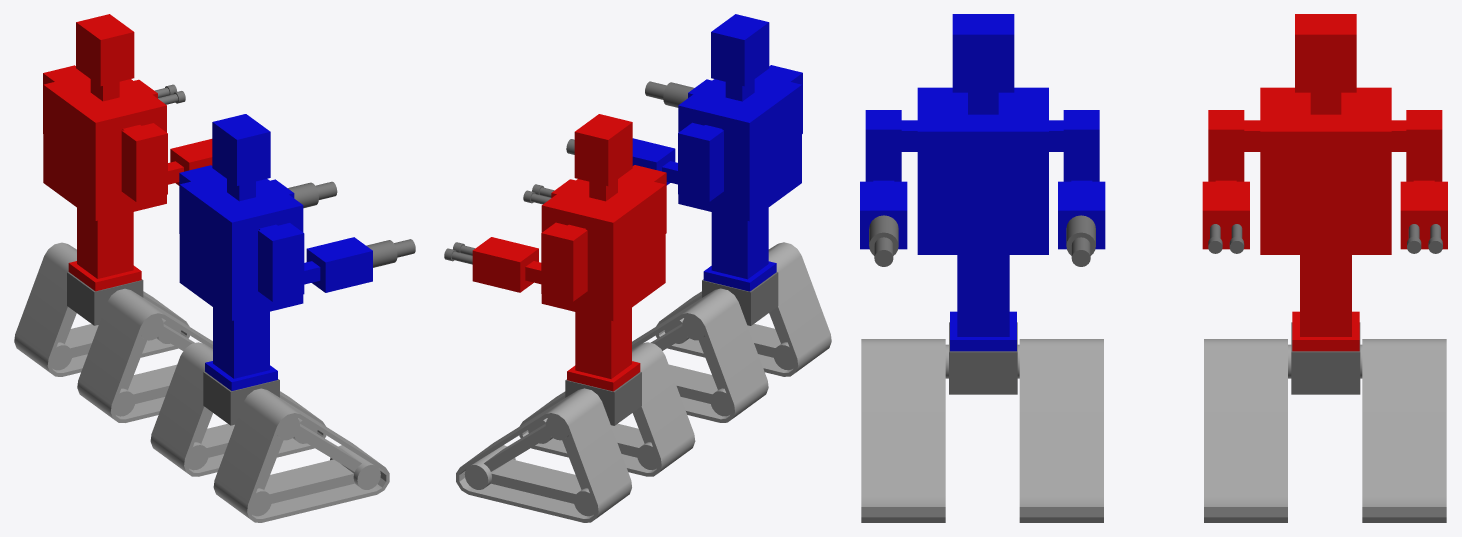
The model's file is BOTS.fbx.
3 renders of one model, left to right at view 1: azimuth 30°, elevation 25°; view 2: azimuth 150°, elevation 25°; view 3: azimuth 270°, elevation 25°, orthographic. The views are drawn at different scales.
Visible parts, largest first — view 1: polySurface77, polySurface108, polySurface109, polySurface43; view 2: polySurface108, polySurface77, polySurface43, polySurface109; view 3: polySurface77, polySurface108, polySurface109, polySurface43.
Boxes of the visible parts, x1,y1,x2,y2 form: polySurface77: (179,114,415,390); polySurface108: (43,14,212,291); polySurface109: (150,342,389,522); polySurface43: (14,242,212,422); polySurface108: (444,114,666,391); polySurface77: (566,14,802,291); polySurface43: (456,342,695,522); polySurface109: (632,242,831,422); polySurface77: (860,14,1105,351); polySurface108: (1202,14,1447,351); polySurface109: (861,322,1103,522); polySurface43: (1204,322,1446,522).
Size of the model in its own units: 3 by 5.83 by 6.99.
